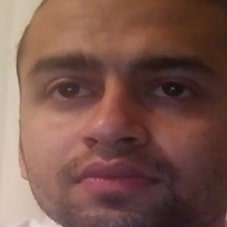drowsy: (24, 37, 227, 209)
